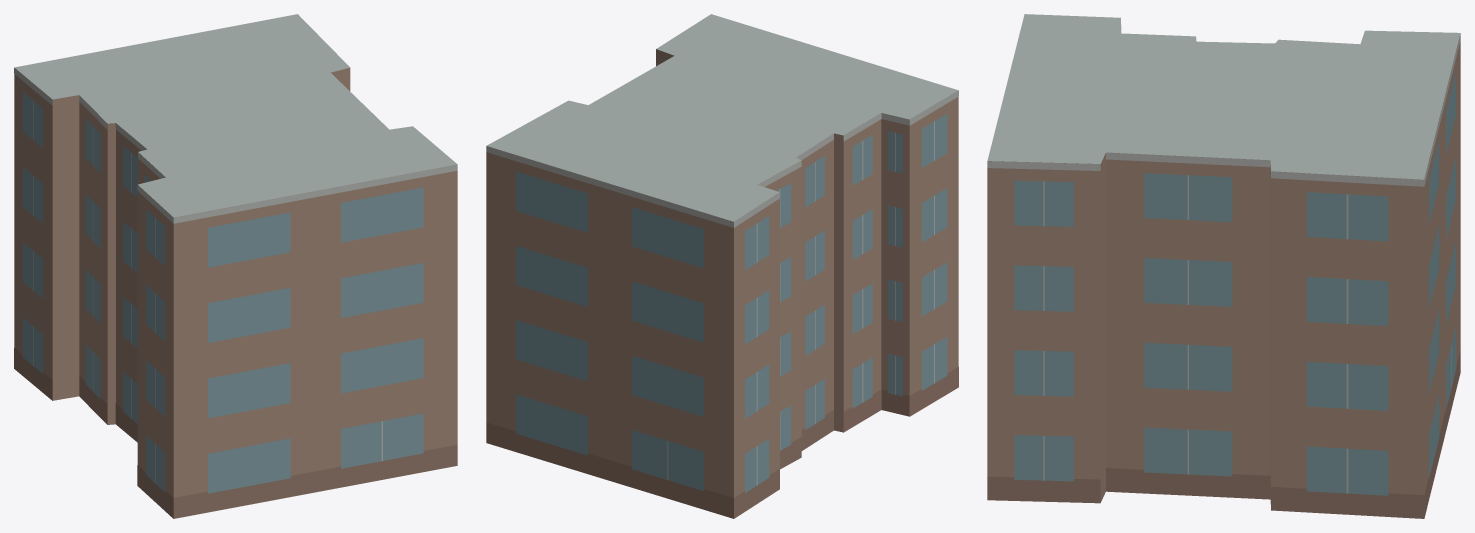
The model's file is survey-upis-32873781.glb.
3 renders of one model, left to right at view 1: azimuth 30°, elevation 25°; view 2: azimuth 150°, elevation 25°; view 3: azimuth 270°, elevation 25°, orthographic. The views are drawn at different scales.
Visible parts, largest first — view 1: survey-upis-32873781.tmp; view 2: survey-upis-32873781.tmp; view 3: survey-upis-32873781.tmp.
Boxes of the visible parts, left/top/right/bottom form: survey-upis-32873781.tmp: left=14, top=14, right=457, bottom=518; survey-upis-32873781.tmp: left=486, top=14, right=958, bottom=518; survey-upis-32873781.tmp: left=987, top=14, right=1460, bottom=518.
Size of the model in its own units: 12.32 by 11.75 by 14.87.
